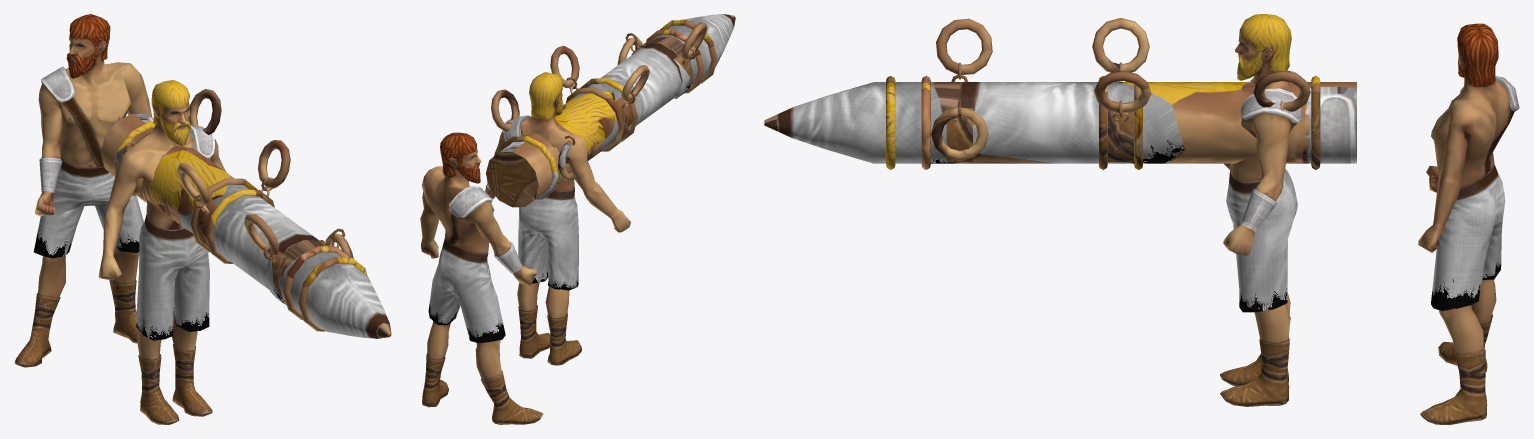
The model's file is 228-portableram.glb.
3 views of the same model, side by side, from view 1: azimuth 30°, elevation 25°; view 2: azimuth 150°, elevation 25°; view 3: azimuth 270°, elevation 25° (orthographic). The views are drawn at different scales.
Size of the model in its own units: 1.12 by 2.09 by 3.8.
Materials: 2 (2 with a texture image).
